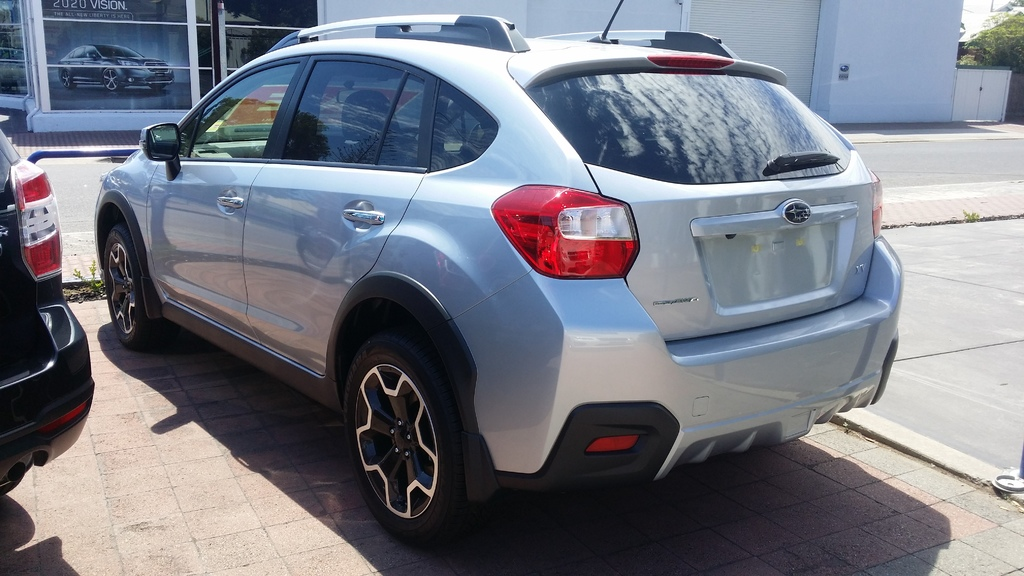Car: (77, 26, 893, 545), (0, 127, 102, 499), (53, 44, 175, 85)
